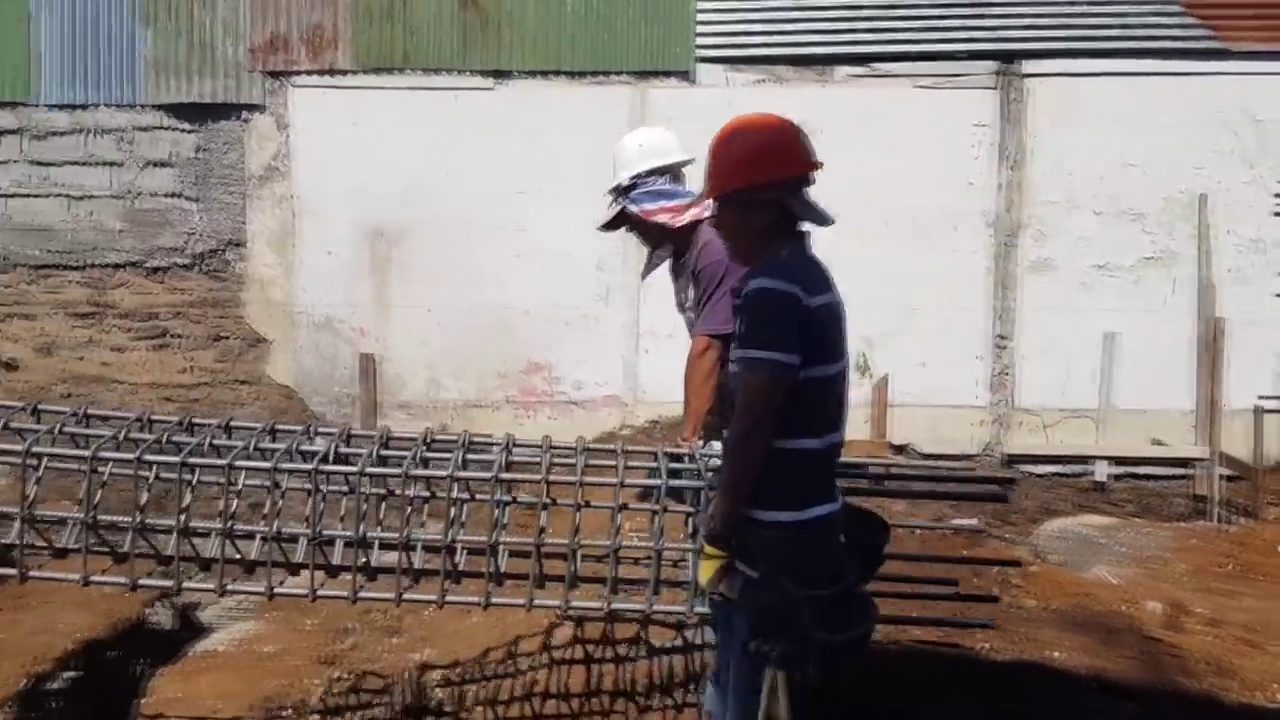helmet: (695, 113, 829, 201), (610, 123, 692, 190)
helmet-on: (692, 111, 832, 260), (602, 114, 693, 264)
person: (682, 106, 870, 682), (601, 132, 748, 486)
